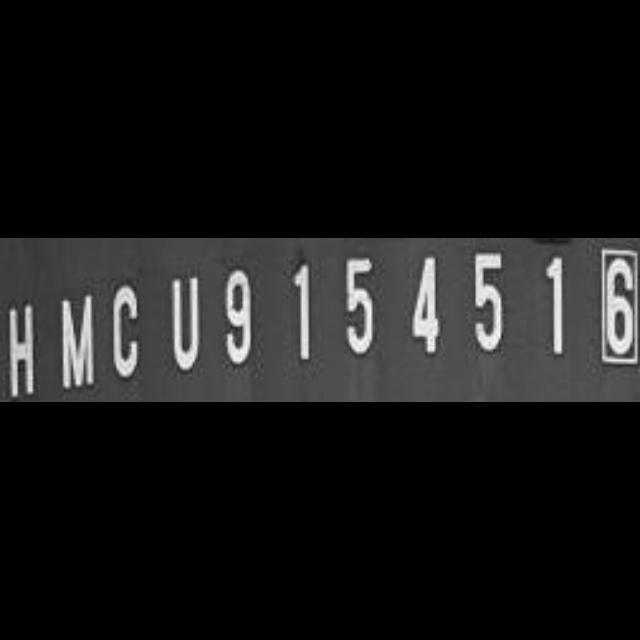1: (542, 252, 574, 366), (286, 258, 318, 368)
4: (409, 250, 447, 358)
5: (468, 248, 510, 356), (340, 252, 378, 360)
6: (602, 251, 638, 361)
9: (221, 262, 257, 372)
c: (104, 278, 146, 386)
h: (1, 296, 44, 398)
m: (56, 290, 100, 394)
u: (167, 269, 209, 376)
